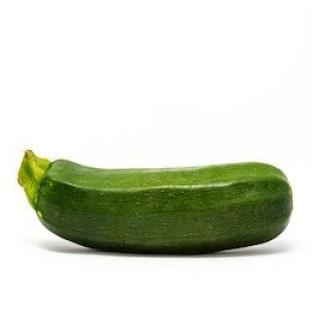Zucchini: (19, 152, 291, 253)
